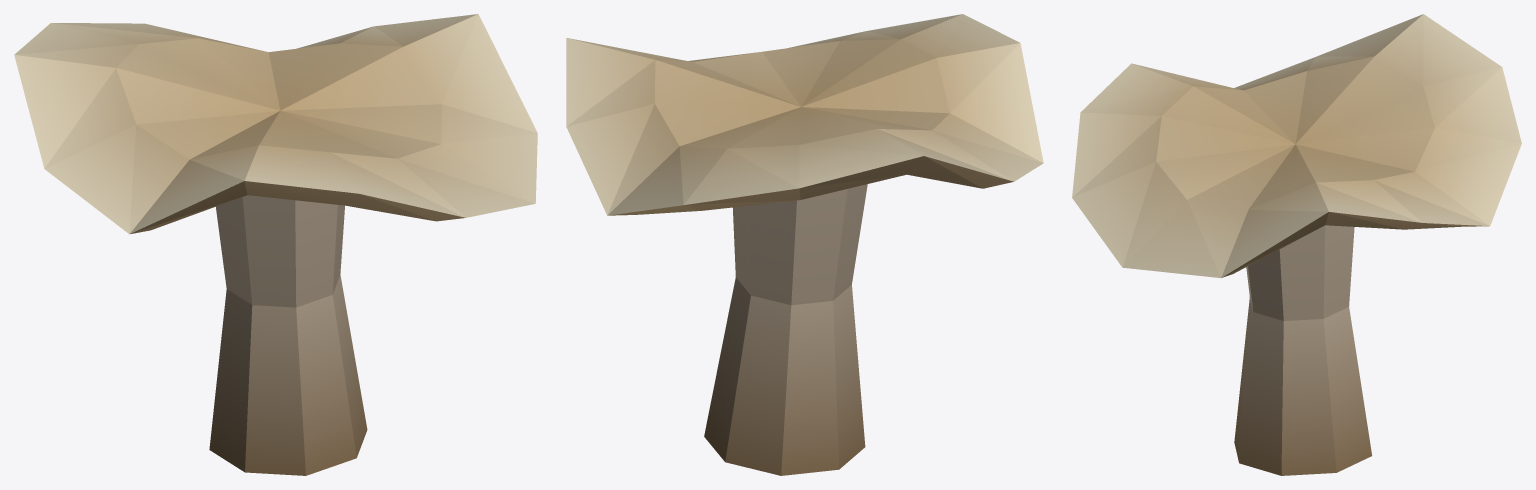
The model's file is coral-toadstool.glb.
The picture shows the model from 3 angles, left to right: view 1: azimuth 30°, elevation 25°; view 2: azimuth 150°, elevation 25°; view 3: azimuth 270°, elevation 25°; orthographic projection. The views are drawn at different scales.
Parts seen in each view (by area): view 1: coral-toadstool_mesh; view 2: coral-toadstool_mesh; view 3: coral-toadstool_mesh.
Part boxes in pixels (box(x1,y1,x2,y2)): coral-toadstool_mesh: box(14, 14, 537, 475); coral-toadstool_mesh: box(566, 14, 1043, 475); coral-toadstool_mesh: box(1072, 14, 1521, 475).
Bounding box in the file's own units: 2.67 × 2.26 × 2.64.
